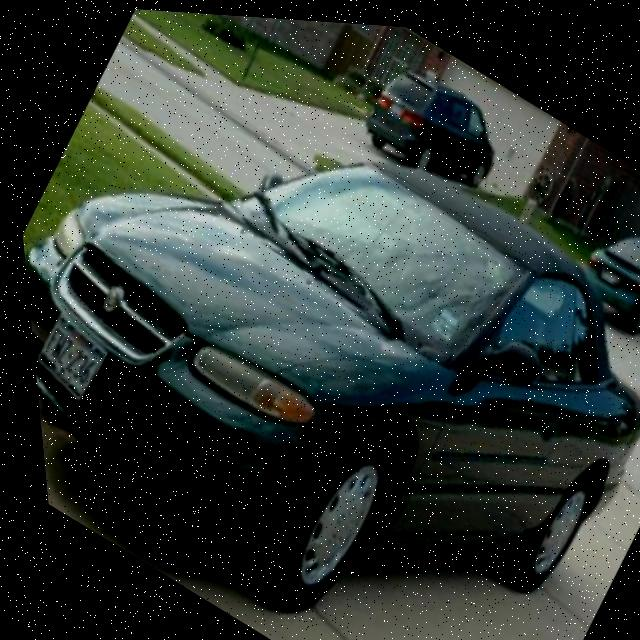license_plate: (24, 316, 105, 403)
